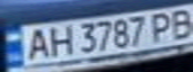3: (75, 20, 96, 53)
7: (127, 13, 151, 46), (93, 18, 115, 52)
8: (112, 16, 133, 48)
A: (21, 25, 54, 61)
B: (166, 6, 193, 39)
H: (45, 22, 75, 56)
P: (145, 10, 178, 43)
